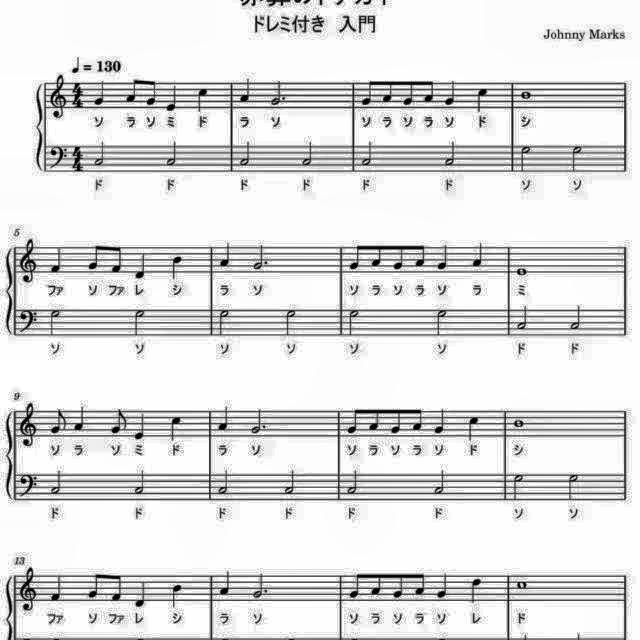Bass-clef: (16, 306, 40, 336), (16, 470, 40, 500), (47, 143, 69, 173)
Eighth-note: (106, 407, 130, 438), (49, 406, 70, 436), (346, 567, 364, 601), (86, 242, 104, 274), (86, 570, 104, 602), (345, 406, 363, 438), (389, 570, 406, 602), (390, 240, 406, 272), (124, 74, 140, 106), (400, 77, 416, 109), (108, 242, 124, 274), (386, 405, 402, 437), (108, 572, 124, 604), (348, 238, 364, 270), (358, 78, 374, 110), (144, 78, 160, 109), (368, 239, 384, 269), (368, 569, 384, 599), (366, 404, 382, 434), (380, 77, 396, 107), (412, 568, 428, 596), (412, 240, 428, 268), (410, 406, 426, 434), (422, 78, 436, 106)
Full-note: (518, 89, 536, 103), (514, 579, 530, 593), (514, 265, 530, 279), (512, 418, 528, 430)
Half-dot: (252, 568, 272, 602), (268, 76, 288, 108), (250, 240, 270, 272), (248, 407, 268, 437)
Half-note: (566, 142, 586, 176), (132, 468, 152, 499), (131, 308, 149, 342), (566, 302, 586, 332), (45, 306, 63, 338), (215, 306, 233, 338), (517, 144, 535, 176), (511, 470, 529, 502), (563, 471, 581, 503), (432, 306, 450, 338), (358, 140, 376, 170), (164, 140, 182, 170), (215, 468, 233, 498), (237, 140, 255, 170), (92, 140, 110, 170), (345, 468, 363, 498), (430, 468, 448, 498), (443, 140, 461, 170), (513, 305, 531, 335), (282, 304, 298, 336), (346, 306, 362, 338), (48, 467, 64, 498), (300, 140, 316, 170), (282, 468, 298, 498)
Quarter-note: (132, 410, 150, 442), (47, 244, 65, 276), (49, 571, 67, 603), (470, 238, 488, 270), (133, 252, 151, 284), (132, 578, 150, 610), (164, 84, 182, 115), (71, 405, 89, 435), (216, 239, 234, 269), (214, 404, 232, 434), (466, 576, 484, 606), (434, 407, 451, 438), (464, 413, 482, 442), (436, 240, 452, 272), (436, 570, 452, 602), (443, 78, 459, 110), (167, 413, 185, 441), (474, 86, 492, 114), (217, 569, 233, 599), (238, 76, 254, 106), (170, 254, 187, 282), (92, 80, 108, 108), (169, 581, 185, 609), (196, 86, 212, 114)
Treble-clef: (16, 400, 40, 450), (16, 235, 40, 285), (17, 564, 39, 612), (50, 70, 70, 120)
